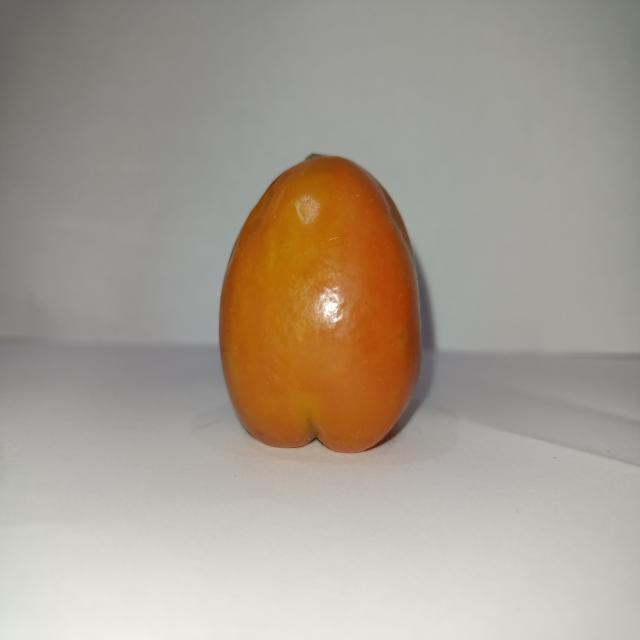Red: (217, 151, 424, 453)
